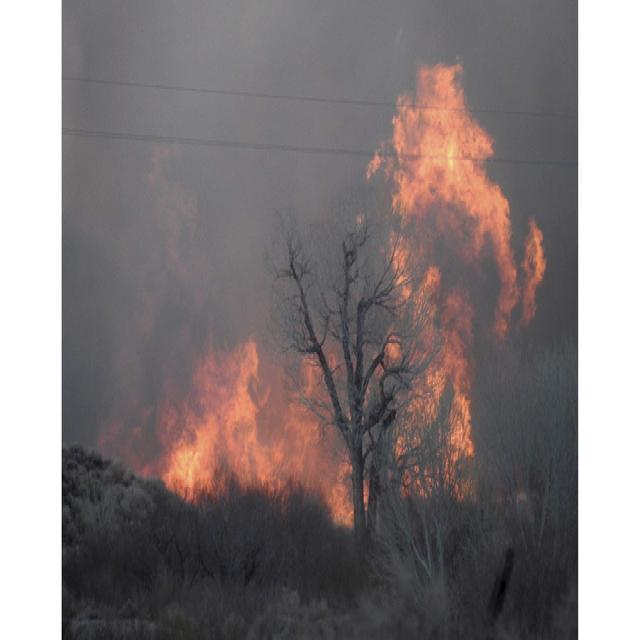Smoke: (102, 129, 208, 448)
